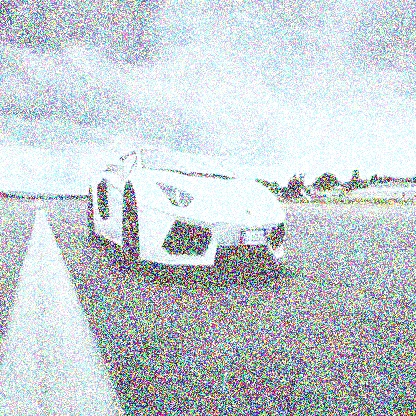Vehicle: (85, 145, 288, 275)
